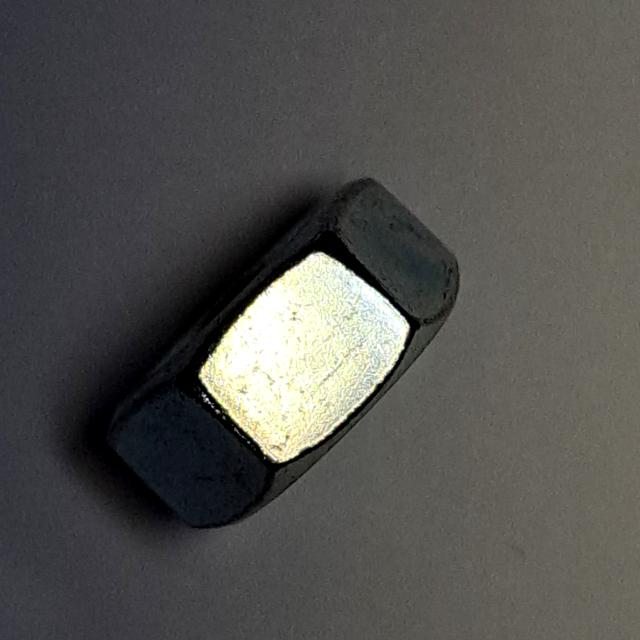Side_Excellent: (87, 162, 500, 540)
